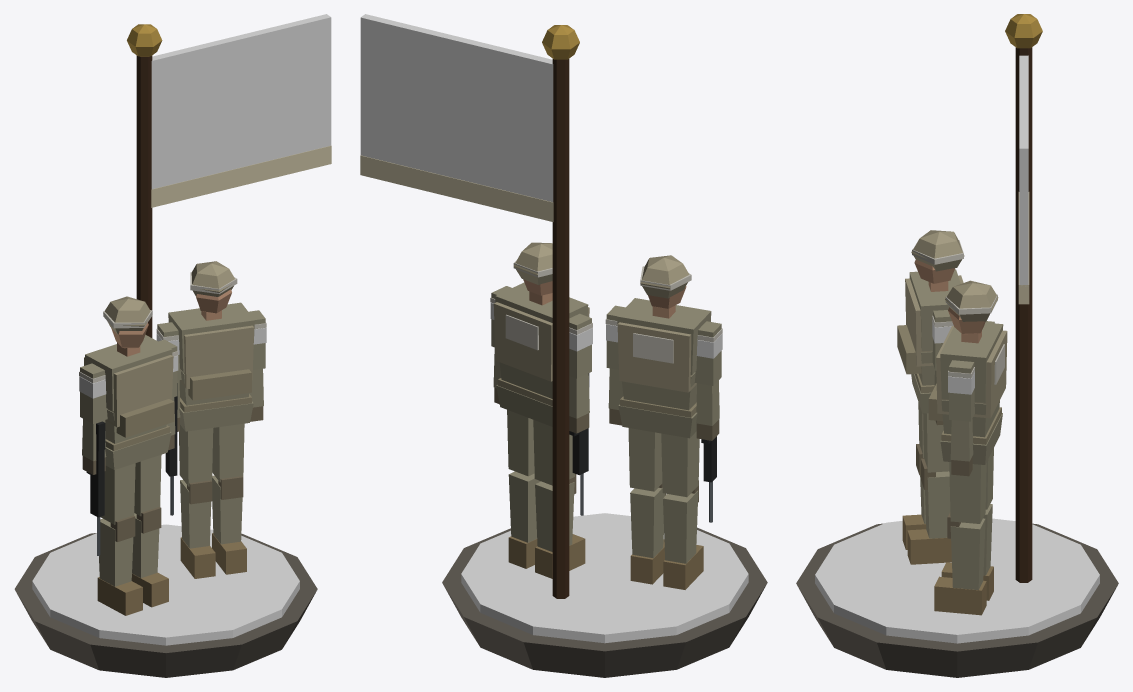
The model's file is map_marker_modern.glb.
3 views of the same model, side by side, from view 1: azimuth 30°, elevation 25°; view 2: azimuth 150°, elevation 25°; view 3: azimuth 270°, elevation 25° (orthographic). The views are drawn at different scales.
Parts seen in each view (by area): view 1: map_marker_modern; view 2: map_marker_modern; view 3: map_marker_modern.
Boxes of the visible parts, x1=… form: map_marker_modern: x1=14, y1=14, x2=331, y2=677; map_marker_modern: x1=360, y1=14, x2=767, y2=677; map_marker_modern: x1=796, y1=14, x2=1118, y2=677.
Size of the model in its own units: 1.69 by 2.83 by 1.36.
